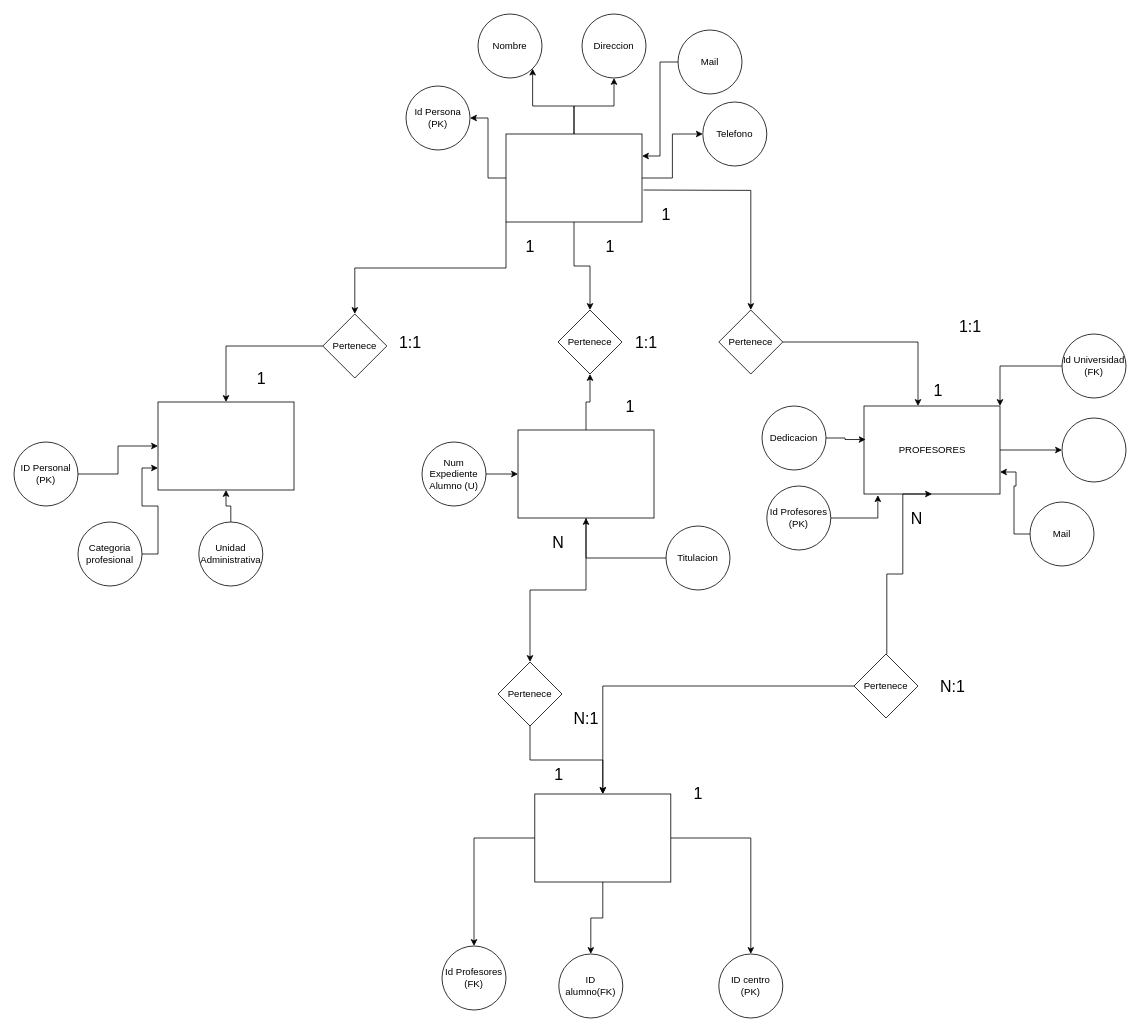
Image size: 1140x1032. Some labels were removed from this diagram. The shapes that lost their labels are listed below. From the top down, each one's centre as x and y in pixels, then its label:
At point (573, 177): "PERSONAS".
At point (225, 445): "PERSONAL".
At point (1093, 449): "Departamento".
At point (585, 473): "ALUMNOS".
At point (602, 837): "Centro".
